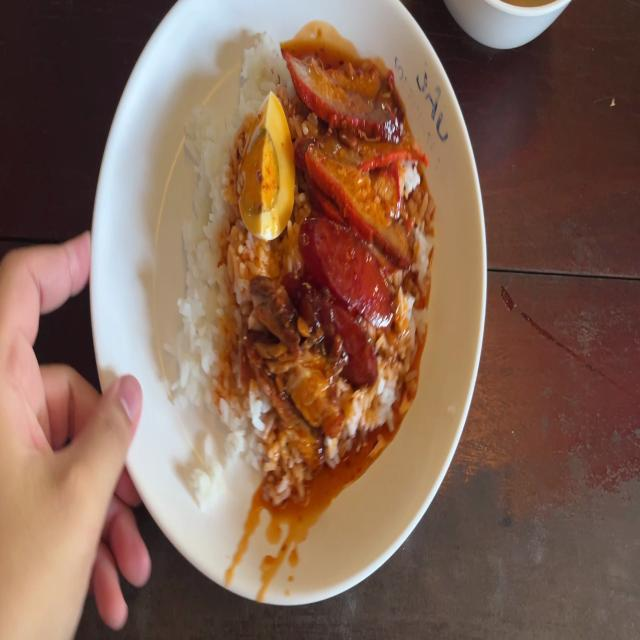01boiled_egg: (245, 108, 291, 238)
01chainese_sausage: (299, 234, 382, 359)
01crispy_pork: (265, 352, 357, 455), (251, 274, 294, 379)
01red_pork: (305, 66, 427, 218)
01red_pork_and_crispy_pork: (182, 42, 417, 468)
01rice: (181, 226, 250, 478), (185, 124, 243, 243), (227, 46, 279, 105)
